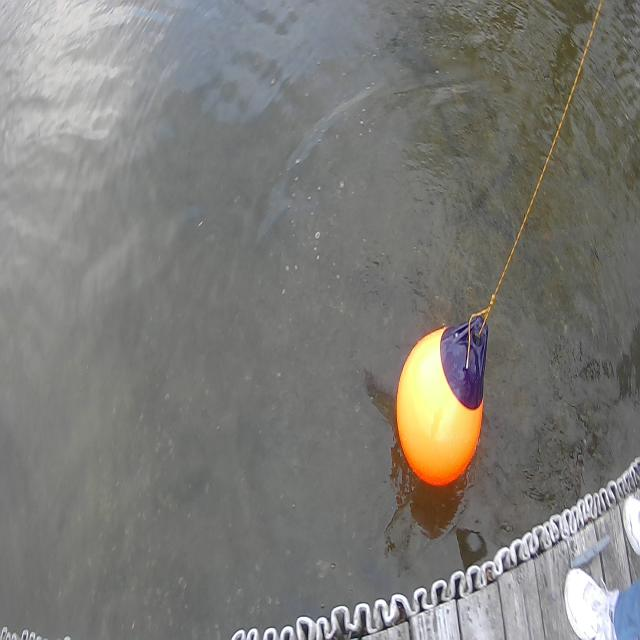Buoy: (394, 304, 489, 511)
